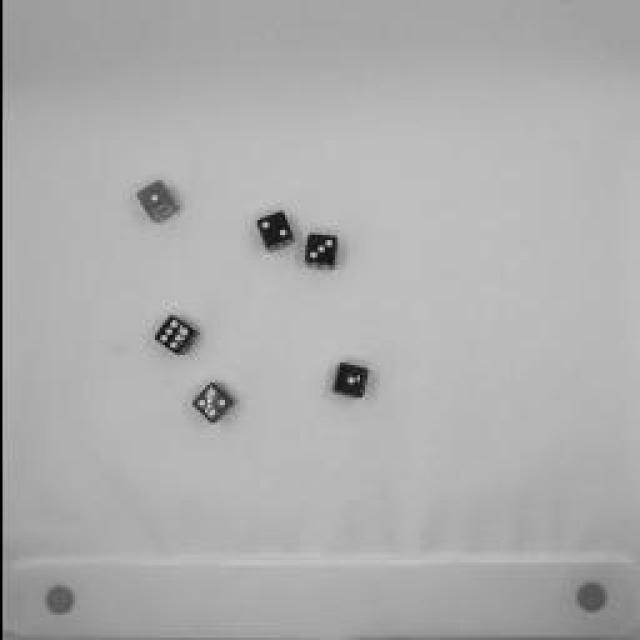dice_1: (130, 174, 182, 231), (325, 355, 375, 410)
dice_2: (249, 205, 296, 255)
dice_3: (292, 224, 342, 276)
dice_4: (188, 378, 240, 428)
dice_6: (148, 310, 200, 360)
